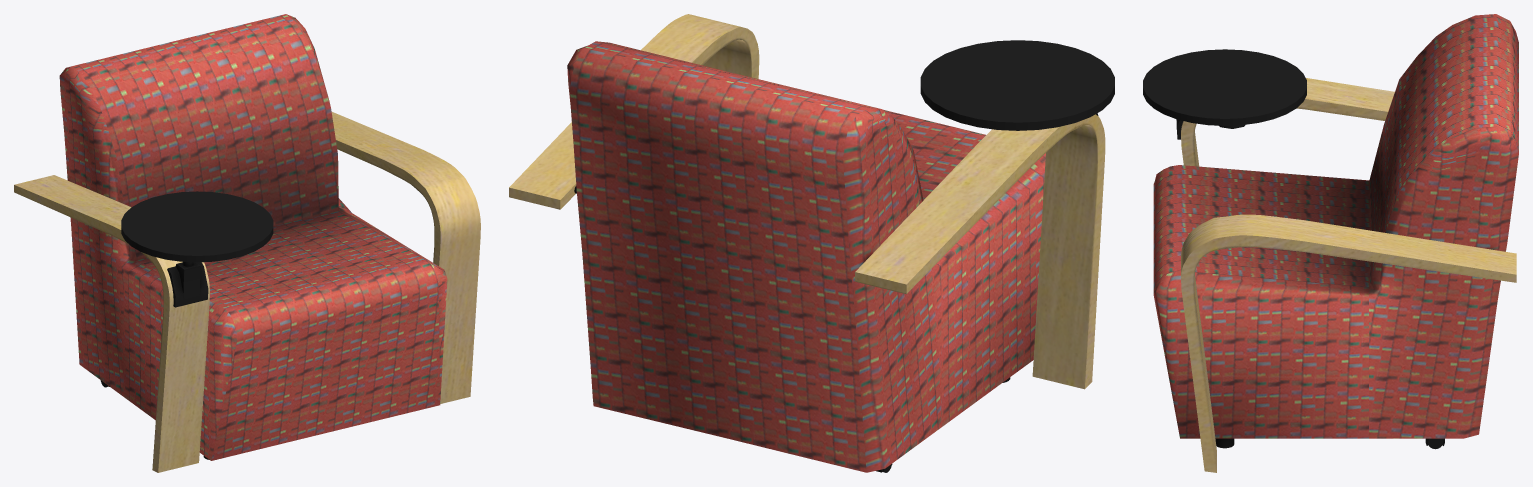
File: DatBrittanyChair.fbx
The picture shows the model from 3 angles, left to right: view 1: azimuth 30°, elevation 25°; view 2: azimuth 150°, elevation 25°; view 3: azimuth 270°, elevation 25°; orthographic projection. The views are drawn at different scales.
Parts seen in each view (by area): view 1: ComfyChair; view 2: ComfyChair; view 3: ComfyChair.
Boxes of the visible parts, x1,y1,x2,y2 form: ComfyChair: [14, 14, 480, 472]; ComfyChair: [509, 14, 1114, 472]; ComfyChair: [1143, 14, 1518, 472].
Bounding box in the file's own units: 68.07 × 59.49 × 62.28.
